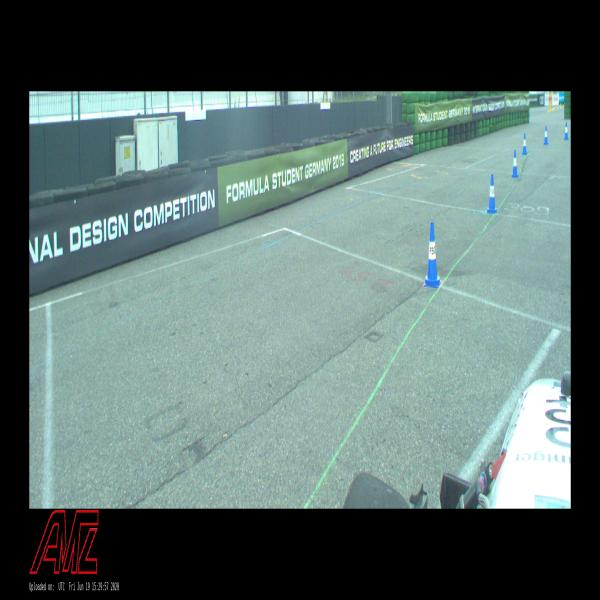blue_cone: (424, 222, 441, 288), (487, 174, 497, 214), (511, 150, 518, 178), (522, 133, 527, 154), (564, 121, 569, 140), (544, 126, 548, 145)
